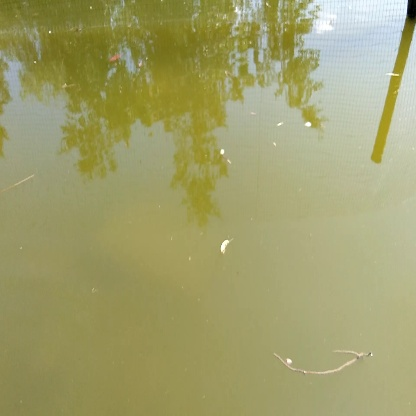branch: (261, 324, 376, 384)
